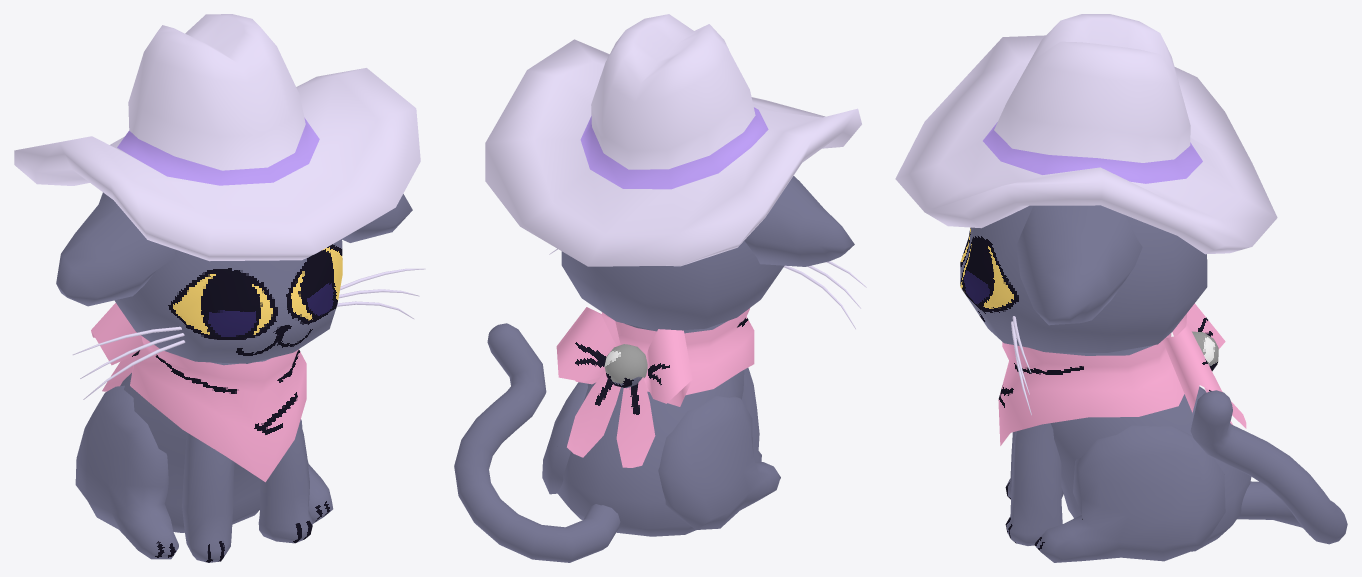
The model's file is CowboyCat.glb.
3 renders of one model, left to right at view 1: azimuth 30°, elevation 25°; view 2: azimuth 150°, elevation 25°; view 3: azimuth 270°, elevation 25°, orthographic. The views are drawn at different scales.
Parts seen in each view (by area): view 1: Circle.002; view 2: Circle.002; view 3: Circle.002.
Boxes of the visible parts, left/top/right/bottom form: Circle.002: left=14, top=14, right=425, bottom=562; Circle.002: left=454, top=14, right=866, bottom=562; Circle.002: left=895, top=14, right=1347, bottom=562.
Size of the model in its own units: 0.8913 by 1.19 by 0.9931.
Materials: 1 (1 with a texture image).
